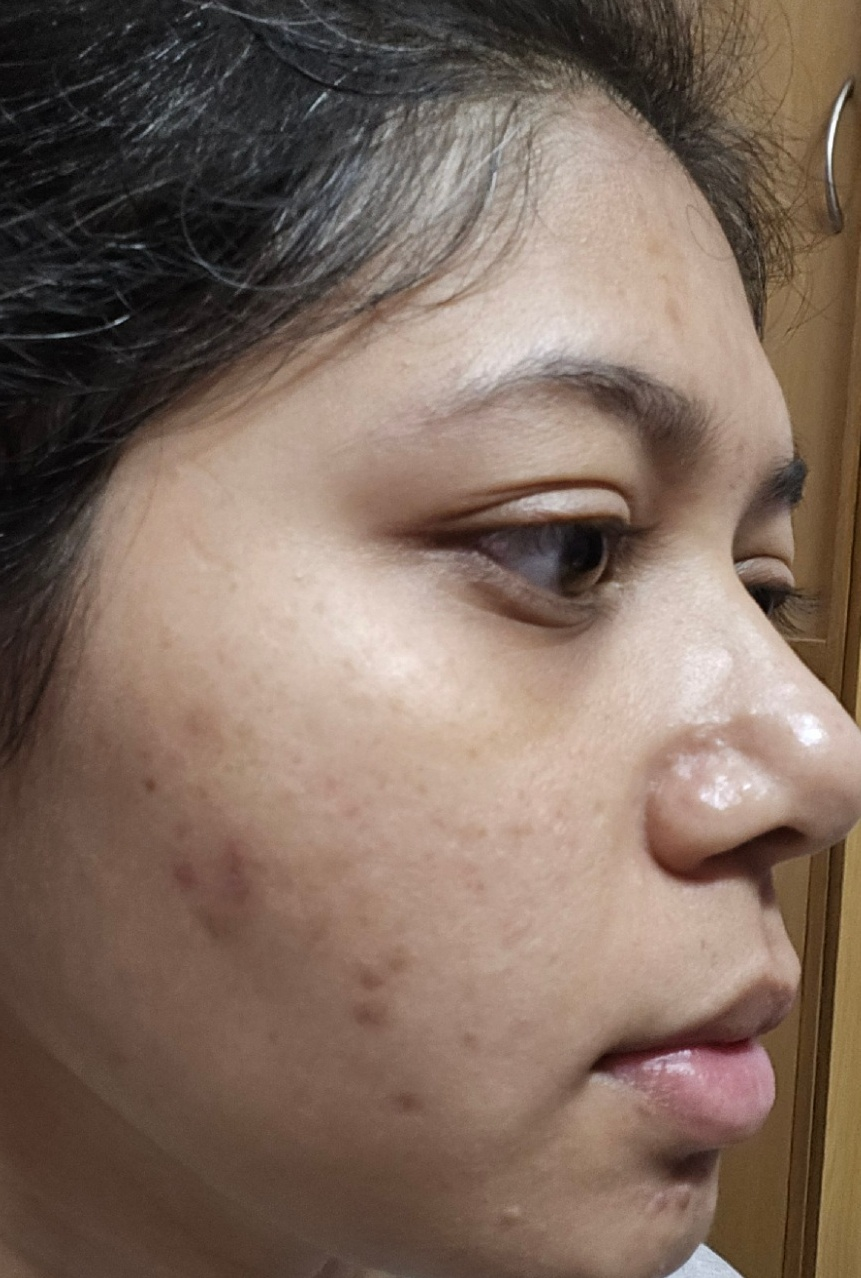closed_comedone: (469, 1166, 553, 1242)
papule: (337, 942, 396, 1043), (633, 1175, 730, 1234), (202, 836, 276, 906), (149, 842, 200, 901)
